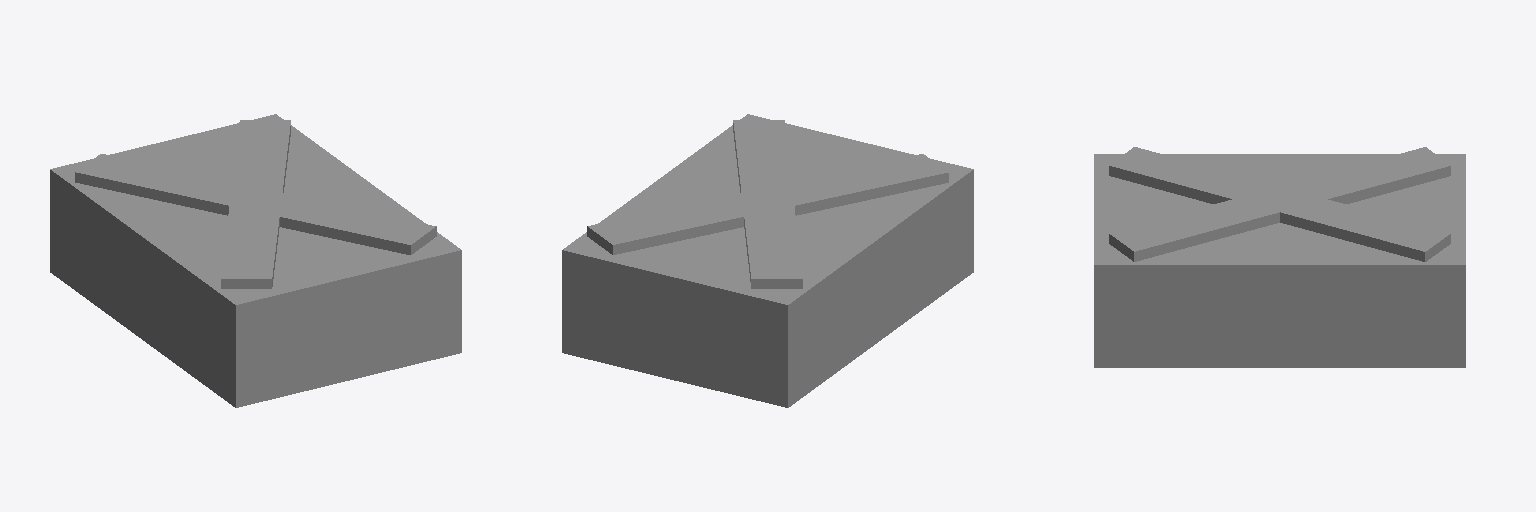
Rendered from infantry1.obj.
3 views of the same model, side by side, from view 1: azimuth 30°, elevation 25°; view 2: azimuth 150°, elevation 25°; view 3: azimuth 270°, elevation 25° (orthographic).
Visible parts, largest first — view 1: Cube; view 2: Cube; view 3: Cube.
Boxes of the visible parts, x1=… form: Cube: x1=50, y1=114, x2=461, y2=407; Cube: x1=562, y1=114, x2=973, y2=407; Cube: x1=1094, y1=147, x2=1465, y2=367.
Bounding box in the file's own units: 1.38 × 0.66 × 1.96.